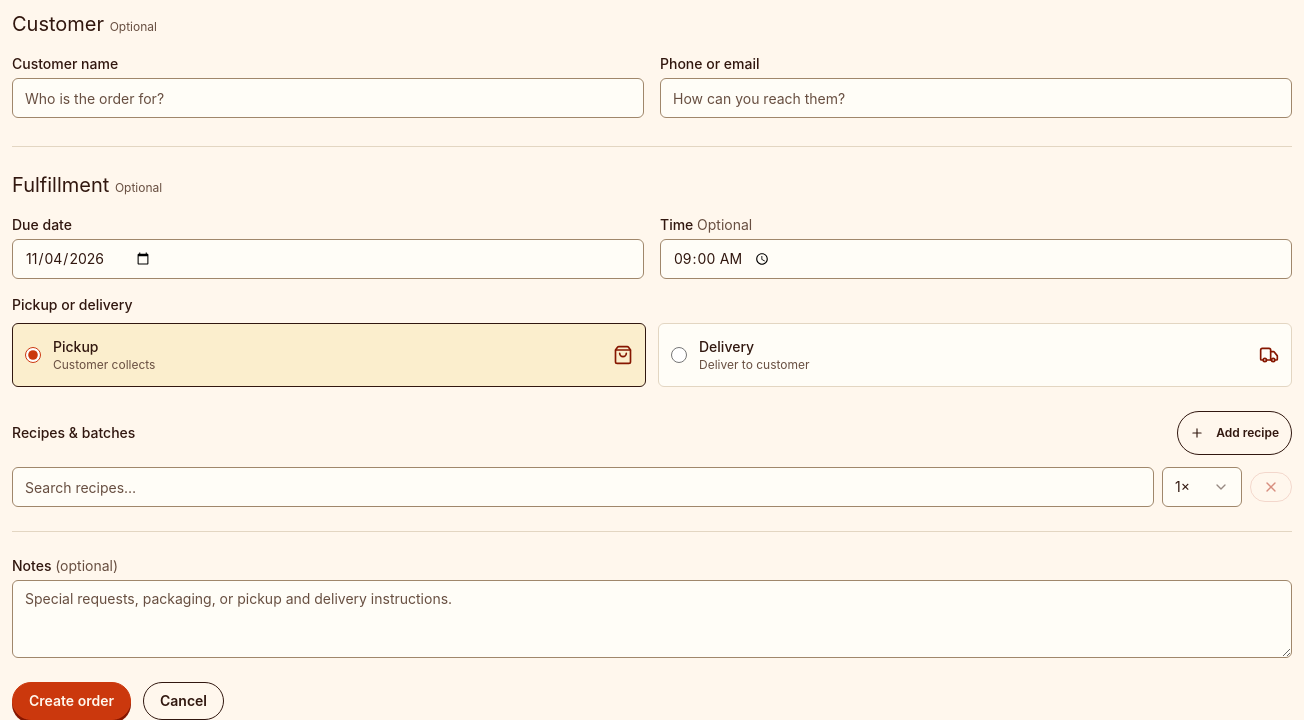
Test: OrderForm › explains why an order cannot be submitted without a recipe
The image size is (1304, 720).
(page scrolled)
Click the button "Create order" at (72, 701), box [12, 682, 131, 719]
(page scrolled)
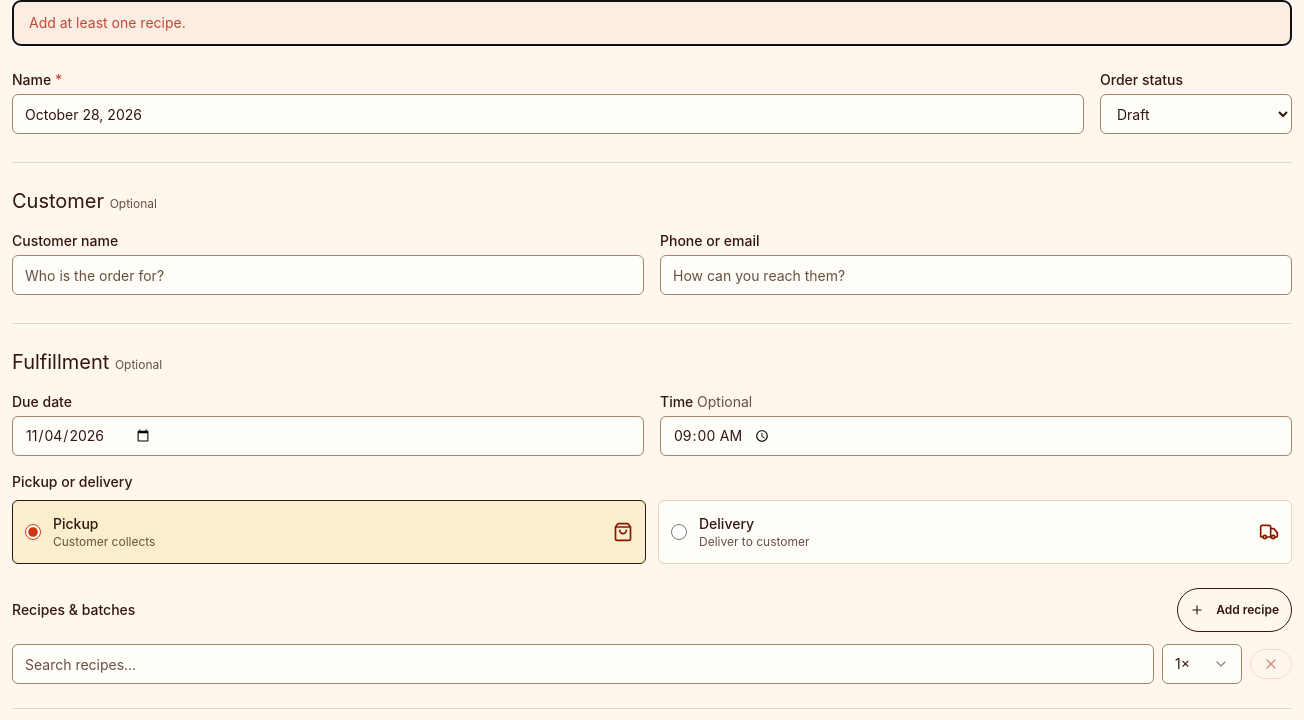
Expected: the message reads "Add at least one recipe.", [29, 14, 186, 31]
